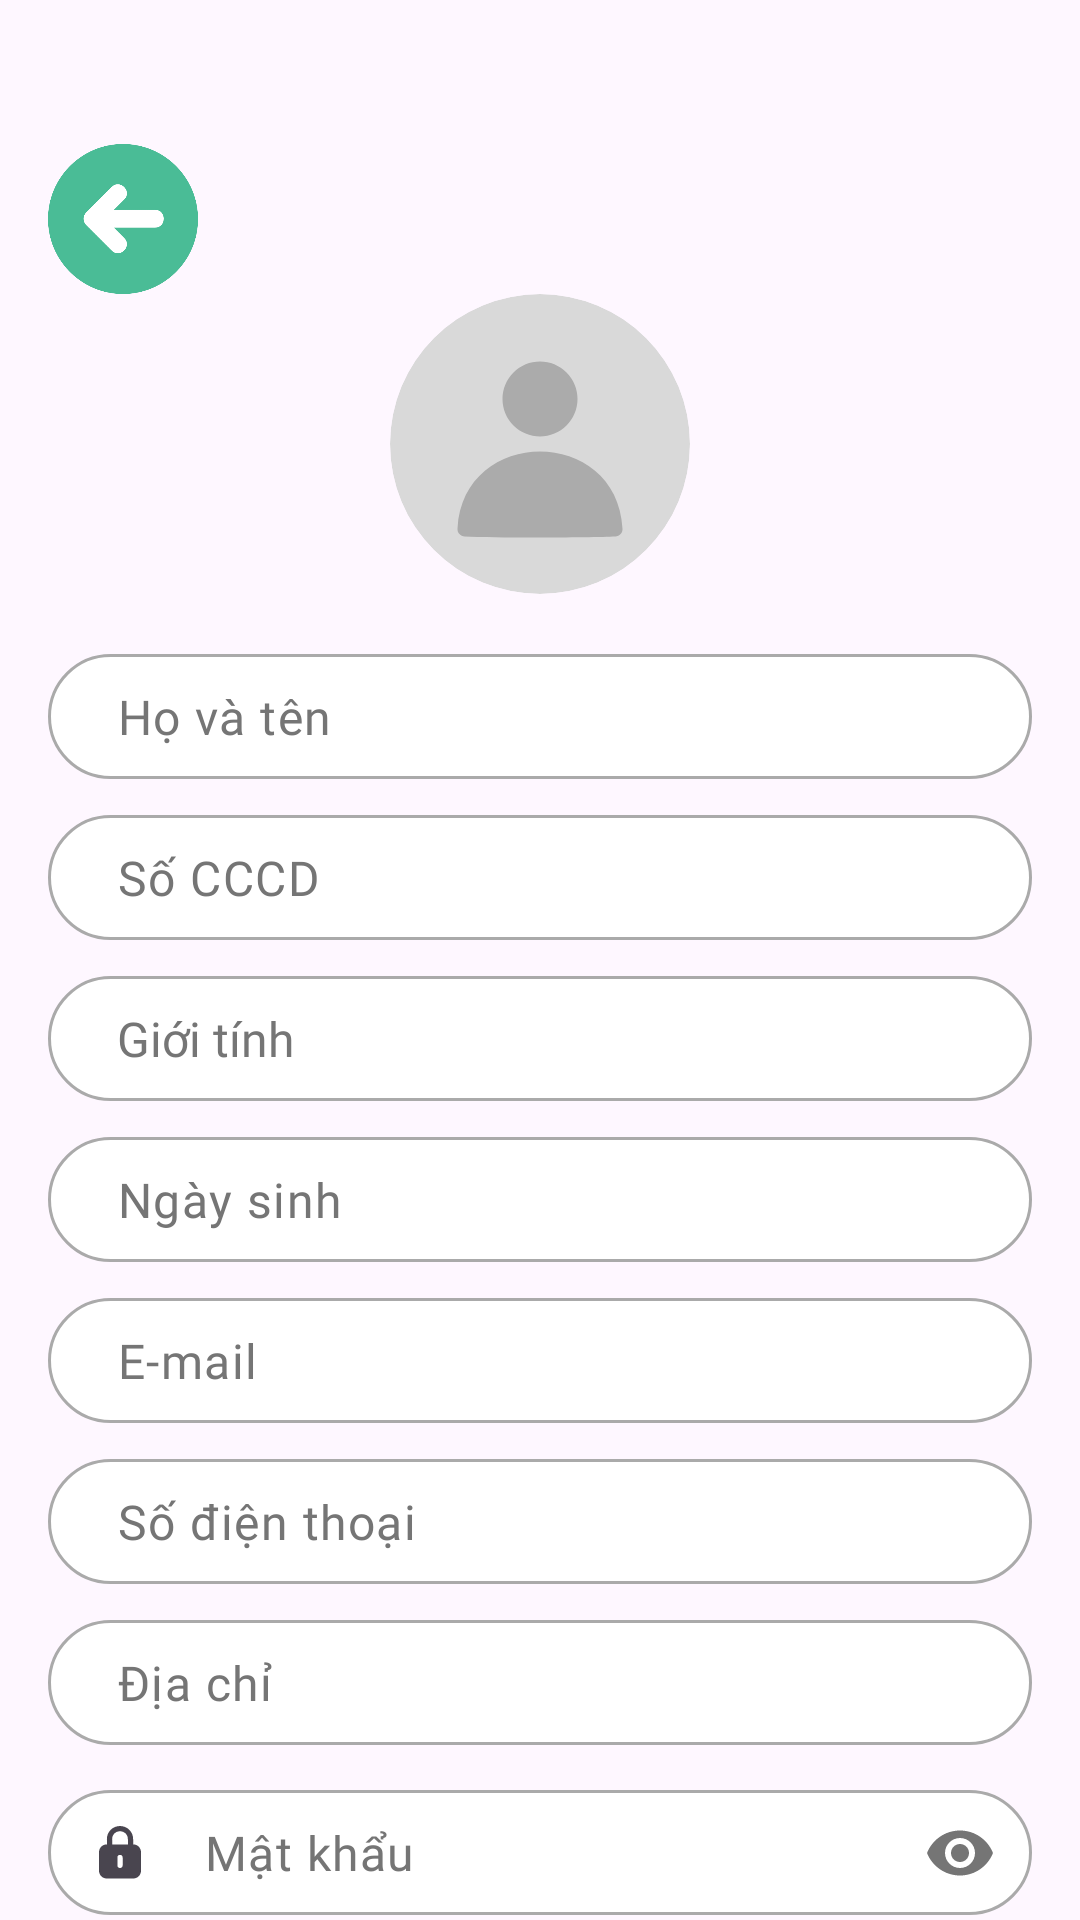

Icon click points for this 1080w x 1920h phone screenshot, format point (x, y):
back: point (123, 219)
